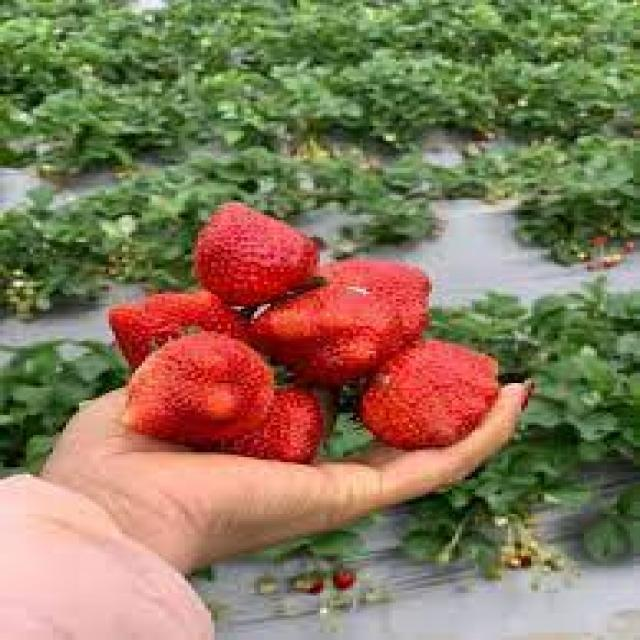Fruta sana: (344, 332, 495, 446), (130, 330, 274, 443), (176, 196, 328, 300), (252, 277, 398, 383), (306, 249, 441, 341), (101, 290, 250, 372), (222, 382, 340, 462)
